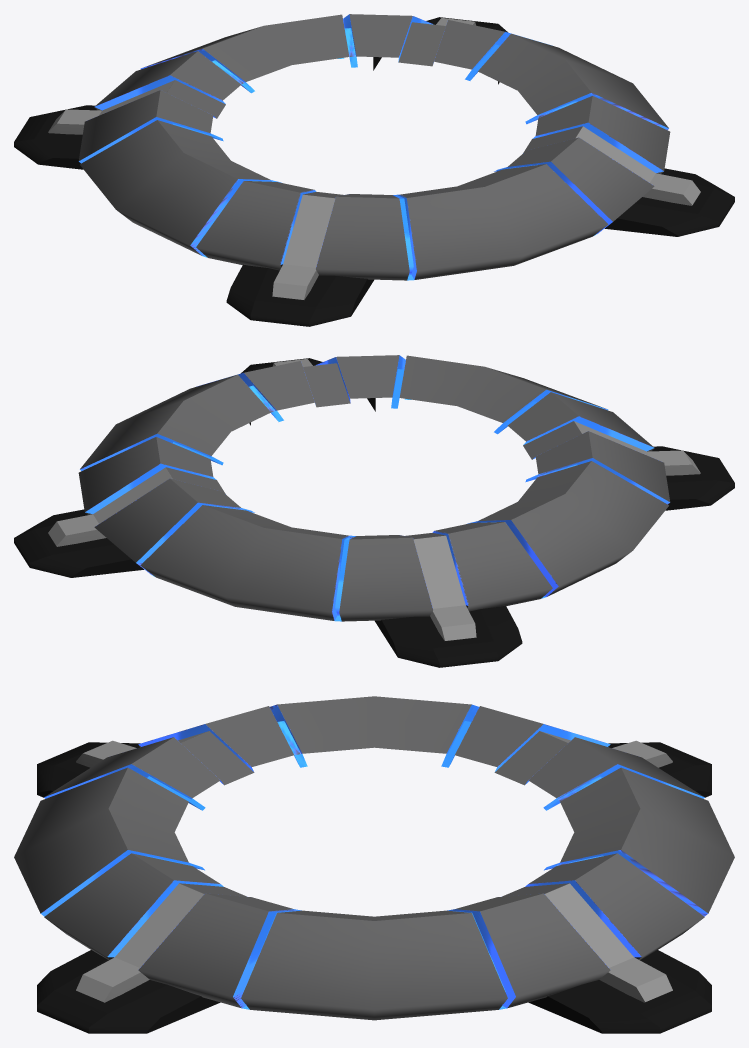
The model's file is ButtonBaseSquare.glb.
The picture shows the model from 3 angles, top to bottom: view 1: azimuth 30°, elevation 25°; view 2: azimuth 150°, elevation 25°; view 3: azimuth 270°, elevation 25°; orthographic projection. The views are drawn at different scales.
Parts seen in each view (by area): view 1: Cube.012; view 2: Cube.012; view 3: Cube.012.
Boxes of the visible parts, x1,y1,x2,y2 form: Cube.012: (14,14,734,326); Cube.012: (14,355,734,667); Cube.012: (14,696,734,1033).
Bounding box in the file's own units: 2.03 × 0.2674 × 2.03.
Materials: 1 (1 with a texture image).
